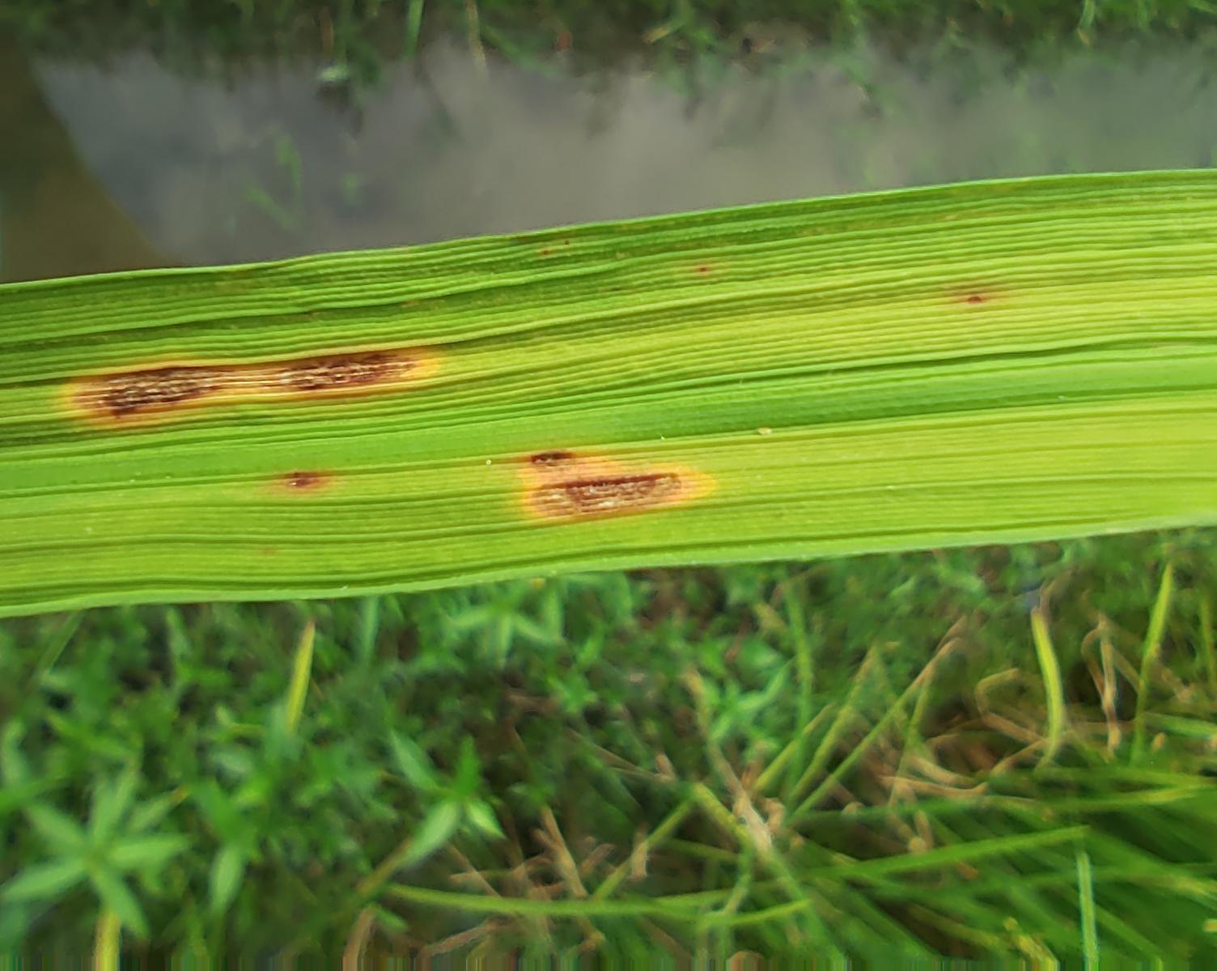LEAF: (0, 170, 1216, 617)
NBS: (77, 348, 425, 424), (534, 472, 681, 515), (530, 450, 574, 465), (285, 471, 320, 488), (966, 294, 985, 305), (698, 265, 708, 273), (564, 240, 571, 246), (542, 251, 548, 255)
